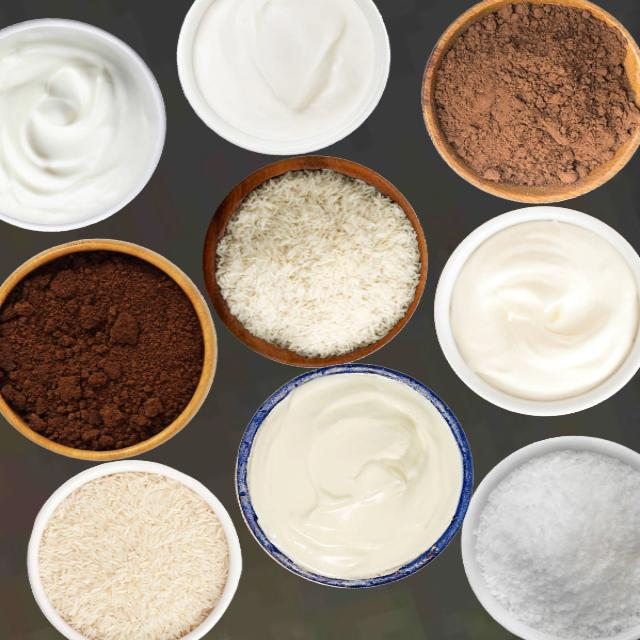Cocoa: (426, 13, 640, 193)
Coffee: (0, 246, 205, 452)
Sugar: (473, 448, 639, 639)
